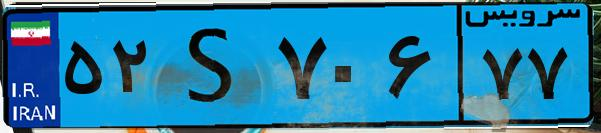0: (330, 28, 385, 110)
2: (110, 28, 158, 98)
5: (57, 26, 110, 100)
6: (385, 28, 445, 110)
7: (270, 28, 330, 110), (475, 38, 525, 113), (525, 38, 570, 115)
S: (158, 12, 270, 120)
